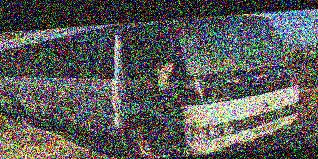bus: (0, 10, 305, 159)
